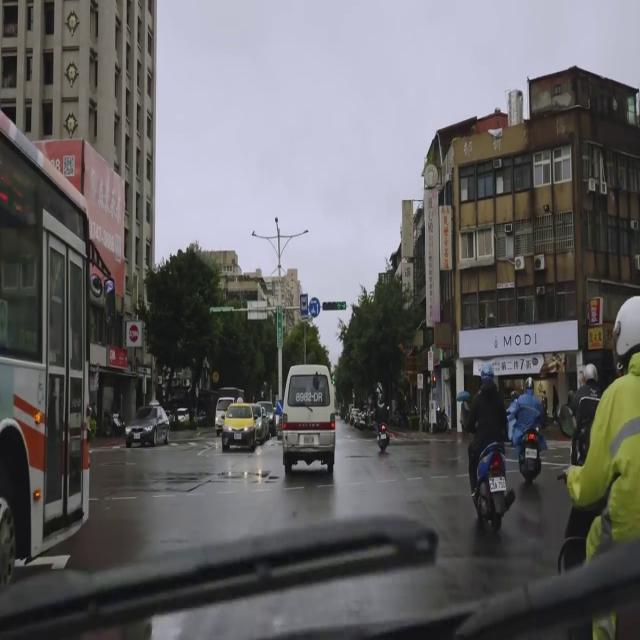green light: (322, 301, 347, 311)
